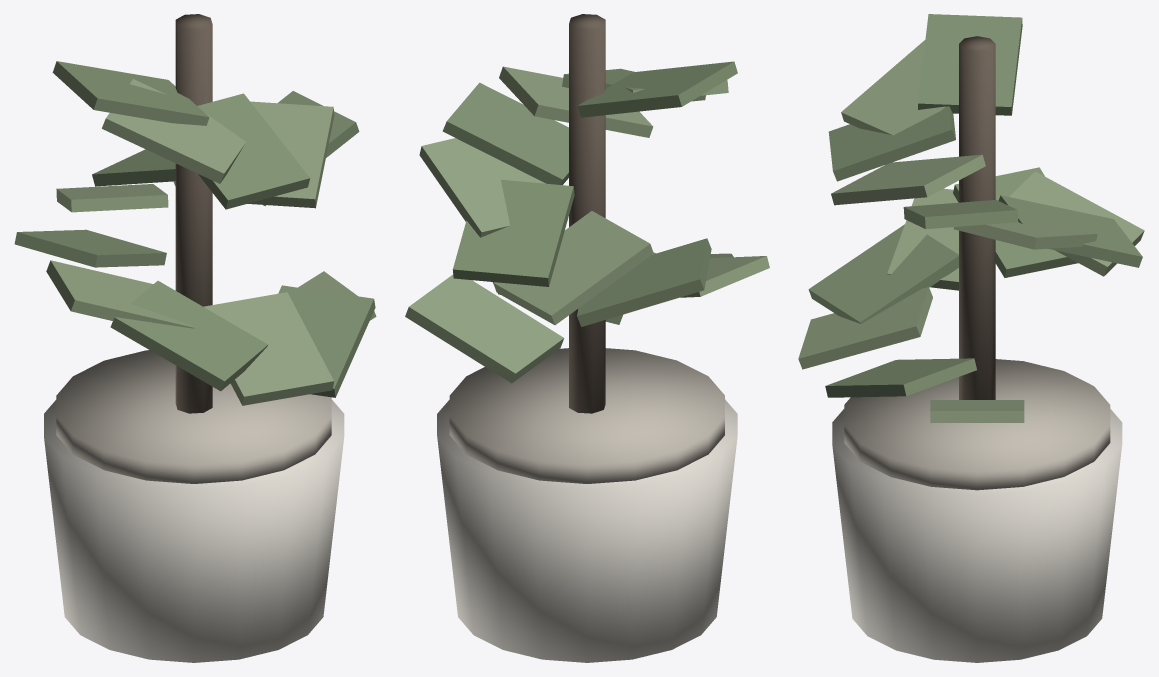
Rendered from plant.glb.
3 renders of one model, left to right at view 1: azimuth 30°, elevation 25°; view 2: azimuth 150°, elevation 25°; view 3: azimuth 270°, elevation 25°, orthographic. The views are drawn at different scales.
Visible parts, largest first — view 1: root; view 2: root; view 3: root.
Part boxes in pixels (x1,y1,x2,y2): root: [14, 14, 376, 662]; root: [405, 14, 769, 662]; root: [798, 14, 1144, 662].
Size of the model in its own units: 0.5166 by 0.9296 by 0.5161.
